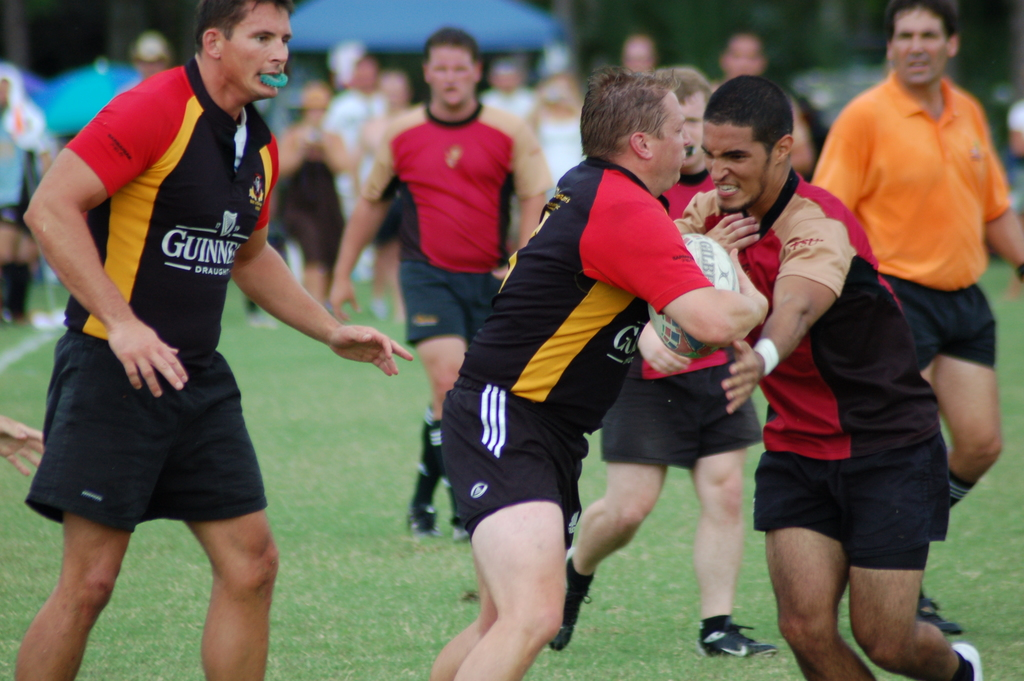face: (887, 10, 949, 82)
